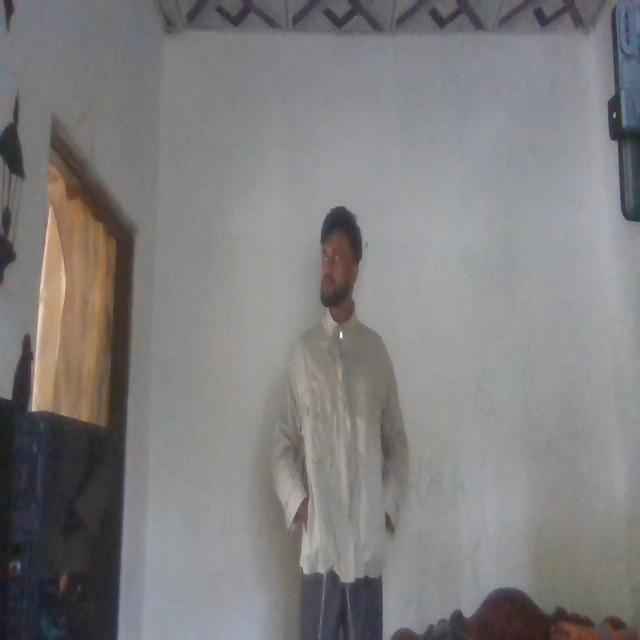Jacket_Wearer: (272, 312, 416, 559)
Person: (262, 193, 422, 640)
